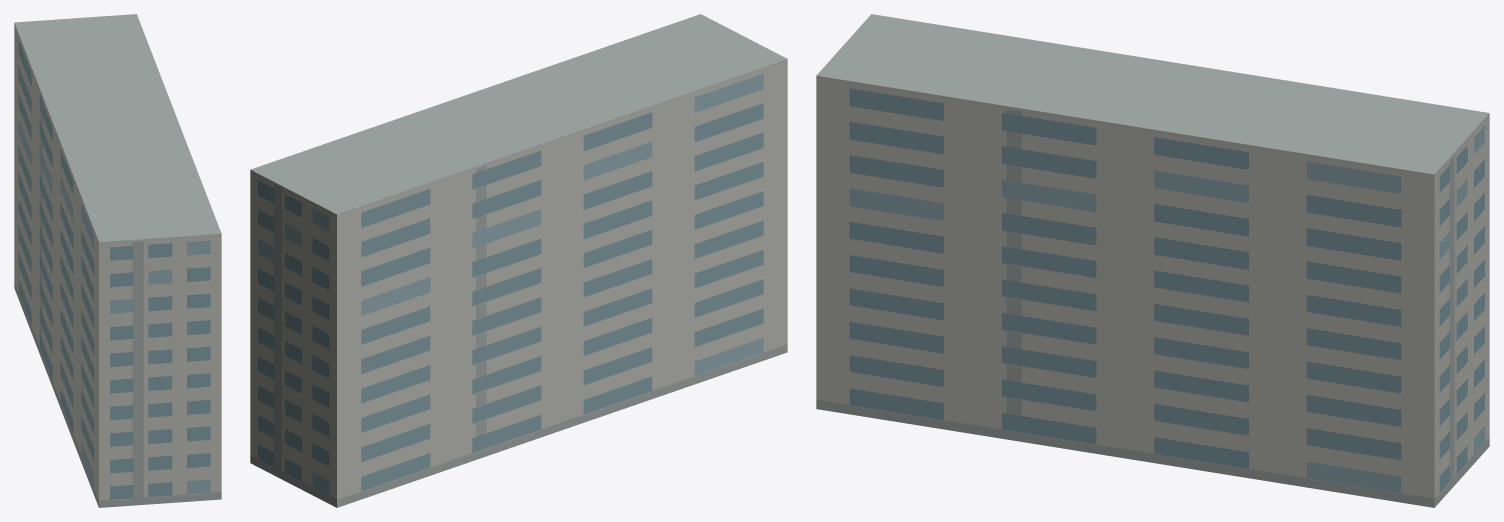
The model's file is residential-c0cf45d9-5f9d-4161-9cdf-f400a9bdee3a.glb.
3 renders of one model, left to right at view 1: azimuth 30°, elevation 25°; view 2: azimuth 150°, elevation 25°; view 3: azimuth 270°, elevation 25°, orthographic. The views are drawn at different scales.
Visible parts, largest first — view 1: residential-c0cf45d9-5f9d-4161-9cdf-f400a9bdee3a.tmp; view 2: residential-c0cf45d9-5f9d-4161-9cdf-f400a9bdee3a.tmp; view 3: residential-c0cf45d9-5f9d-4161-9cdf-f400a9bdee3a.tmp.
Boxes of the visible parts, left/top/right/bottom form: residential-c0cf45d9-5f9d-4161-9cdf-f400a9bdee3a.tmp: left=14, top=14, right=221, bottom=507; residential-c0cf45d9-5f9d-4161-9cdf-f400a9bdee3a.tmp: left=250, top=14, right=787, bottom=507; residential-c0cf45d9-5f9d-4161-9cdf-f400a9bdee3a.tmp: left=816, top=14, right=1489, bottom=507.
Bounding box in the file's own units: 28.93 × 28 × 51.26.
